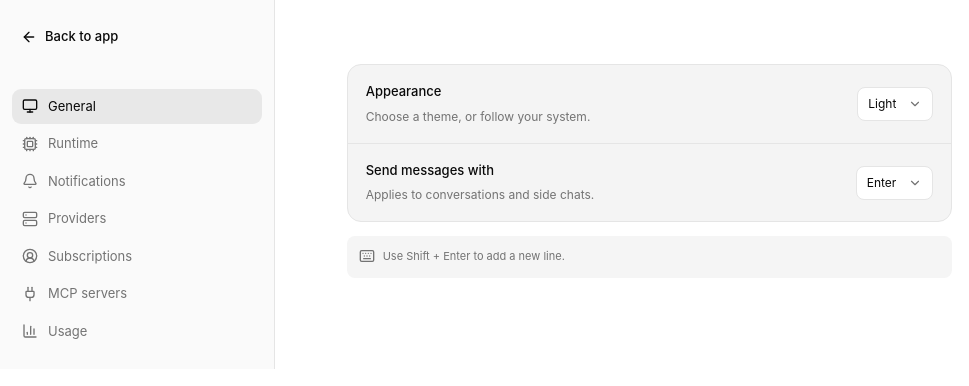
Test: shows the effective project override without offering an ineffective user edit
Click the button "Runtime": coordinates (137, 144) 12,126 -> 262,162
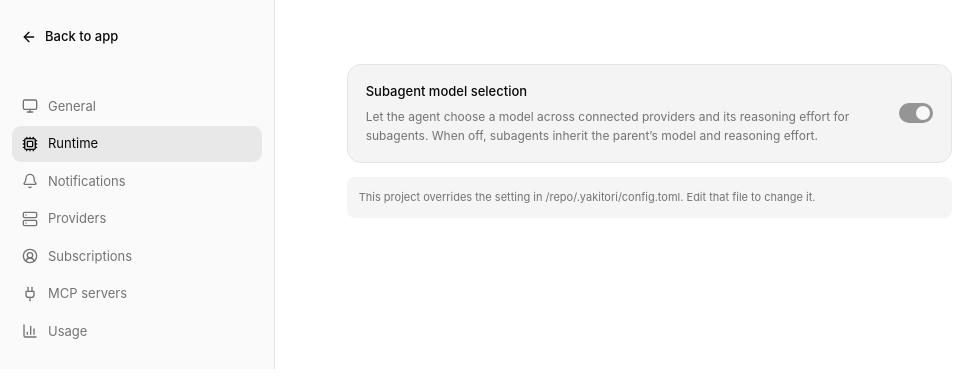
Check: the switch named "Subagent model selection" is disabled, box 899,103 -> 933,123
Check: the text "This project overrides the setting in /repo/.yakitori/config.toml" is shown, box 359,190 -> 816,204
